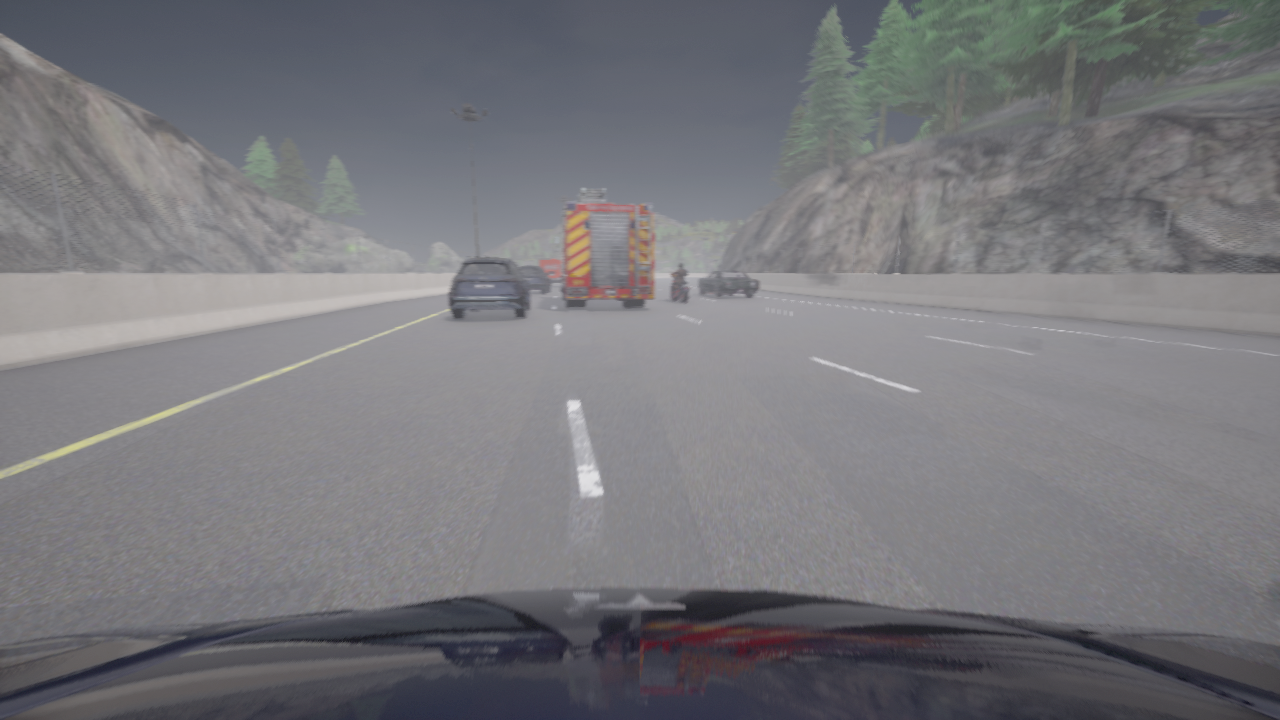cyclist: (0, 588, 1279, 719), (554, 188, 653, 308), (449, 257, 529, 319), (699, 271, 758, 297), (519, 266, 549, 293), (539, 259, 561, 285), (671, 275, 689, 302)
